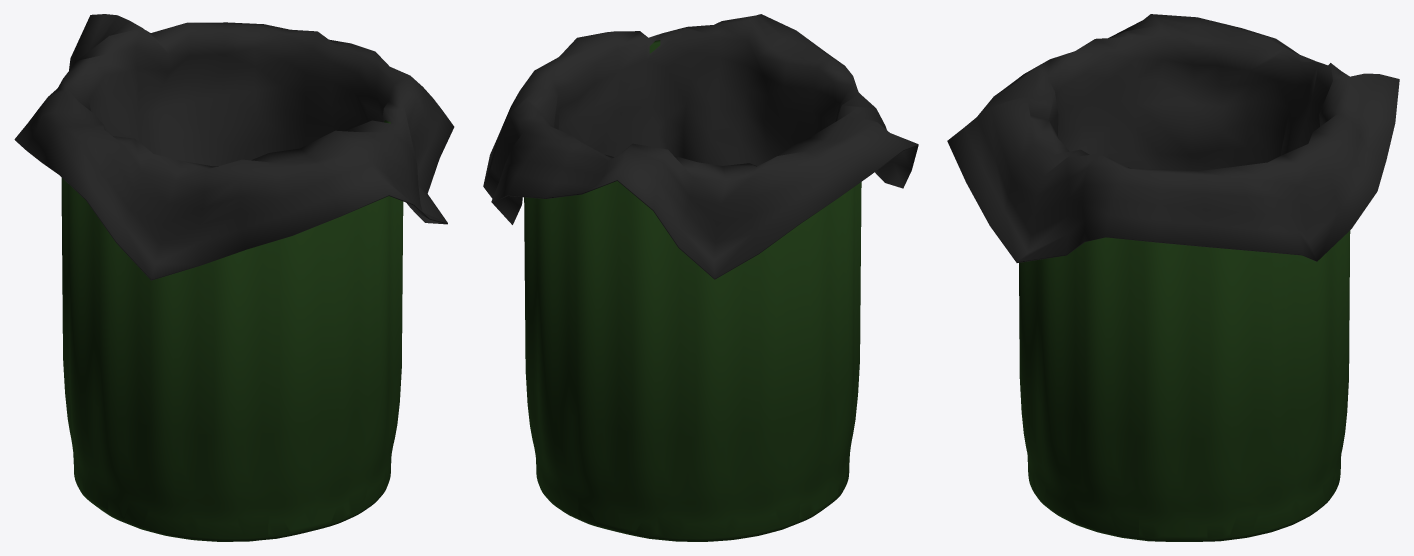
File: Trash.fbx
The picture shows the model from 3 angles, left to right: view 1: azimuth 30°, elevation 25°; view 2: azimuth 150°, elevation 25°; view 3: azimuth 270°, elevation 25°; orthographic projection.
Parts seen in each view (by area): view 1: Circle; view 2: Circle; view 3: Circle.
Boxes of the visible parts, box(x1,y1,x2,y2) form: Circle: box(14, 14, 454, 541); Circle: box(483, 14, 918, 541); Circle: box(947, 14, 1399, 541).
Bounding box in the file's own units: 272 × 278 × 288.
